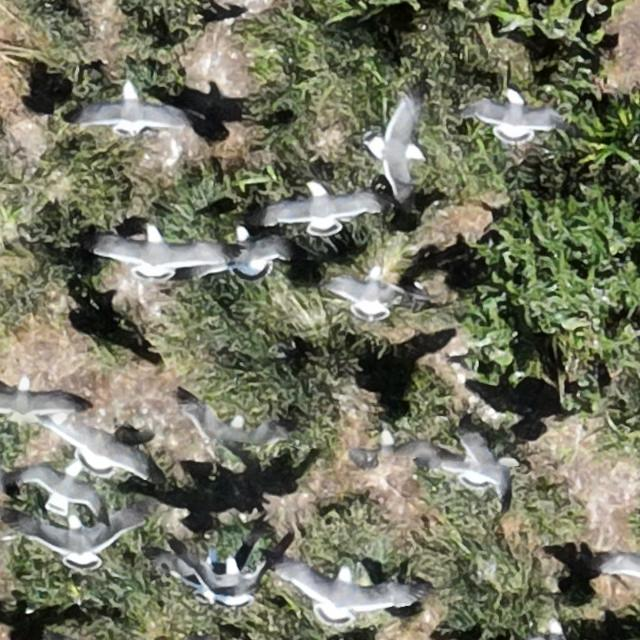F: (41, 415, 154, 481), (183, 392, 283, 455), (96, 223, 212, 276), (15, 462, 111, 524), (275, 182, 380, 236), (371, 96, 426, 192), (307, 573, 406, 621), (1, 377, 80, 427), (184, 552, 262, 602), (335, 267, 418, 313), (474, 100, 562, 142), (353, 430, 431, 476), (457, 425, 507, 496), (218, 230, 290, 279), (50, 522, 128, 566)
umineko: (78, 80, 182, 144), (234, 227, 250, 243), (550, 622, 564, 640)
